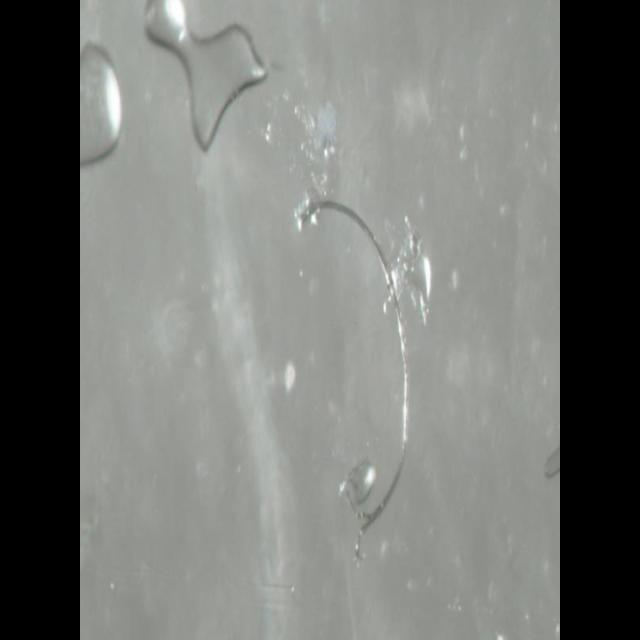Fibre: (295, 187, 417, 568)
